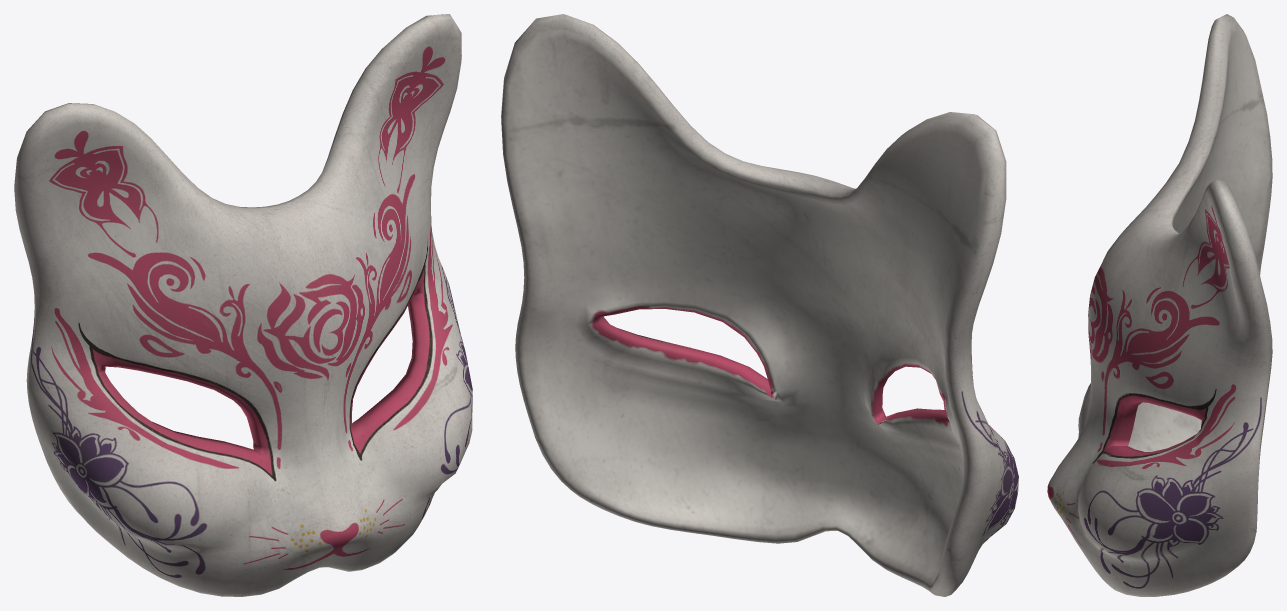
The model's file is mask.glb.
The picture shows the model from 3 angles, left to right: view 1: azimuth 30°, elevation 25°; view 2: azimuth 150°, elevation 25°; view 3: azimuth 270°, elevation 25°; orthographic projection. The views are drawn at different scales.
Visible parts, largest first — view 1: SM_Mask_01; view 2: SM_Mask_01; view 3: SM_Mask_01.
Part boxes in pixels (x1=…): SM_Mask_01: x1=14, y1=14, x2=472, y2=596; SM_Mask_01: x1=501, y1=14, x2=1018, y2=596; SM_Mask_01: x1=1047, y1=14, x2=1272, y2=596.
Bounding box in the file's own units: 0.1778 × 0.1843 × 0.083.
1 material, 1 textured.
